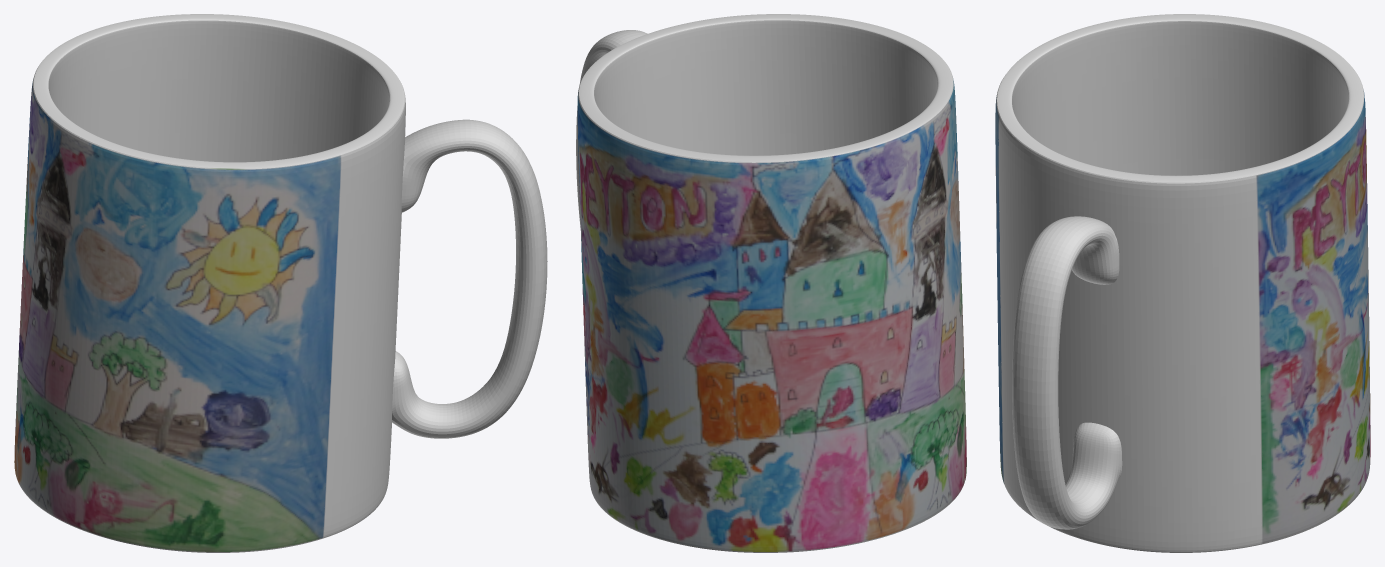
Rendered from mugfinalfbx.glb.
3 renders of one model, left to right at view 1: azimuth 30°, elevation 25°; view 2: azimuth 150°, elevation 25°; view 3: azimuth 270°, elevation 25°, orthographic. The views are drawn at different scales.
Visible parts, largest first — view 1: HyperNURBS1 Polygon; view 2: HyperNURBS1 Polygon; view 3: HyperNURBS1 Polygon.
Part boxes in pixels (box(x1,y1,x2,y2)): HyperNURBS1 Polygon: box(14, 14, 547, 552); HyperNURBS1 Polygon: box(576, 14, 966, 552); HyperNURBS1 Polygon: box(995, 14, 1370, 552).
Bounding box in the file's own units: 314 × 276 × 239.
Materials: 1 (1 with a texture image).
